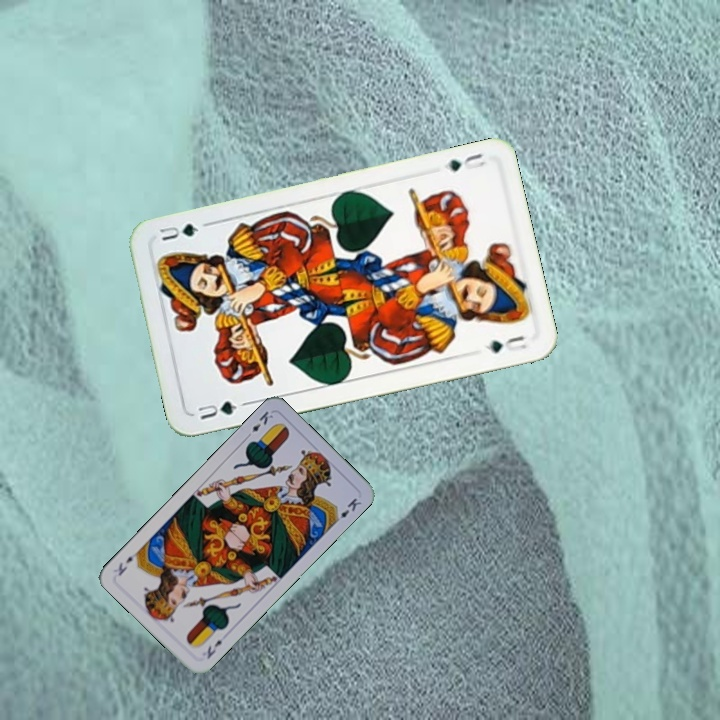EK: (242, 407, 276, 441), (203, 636, 224, 662)
GU: (193, 397, 249, 423), (440, 149, 489, 174)
